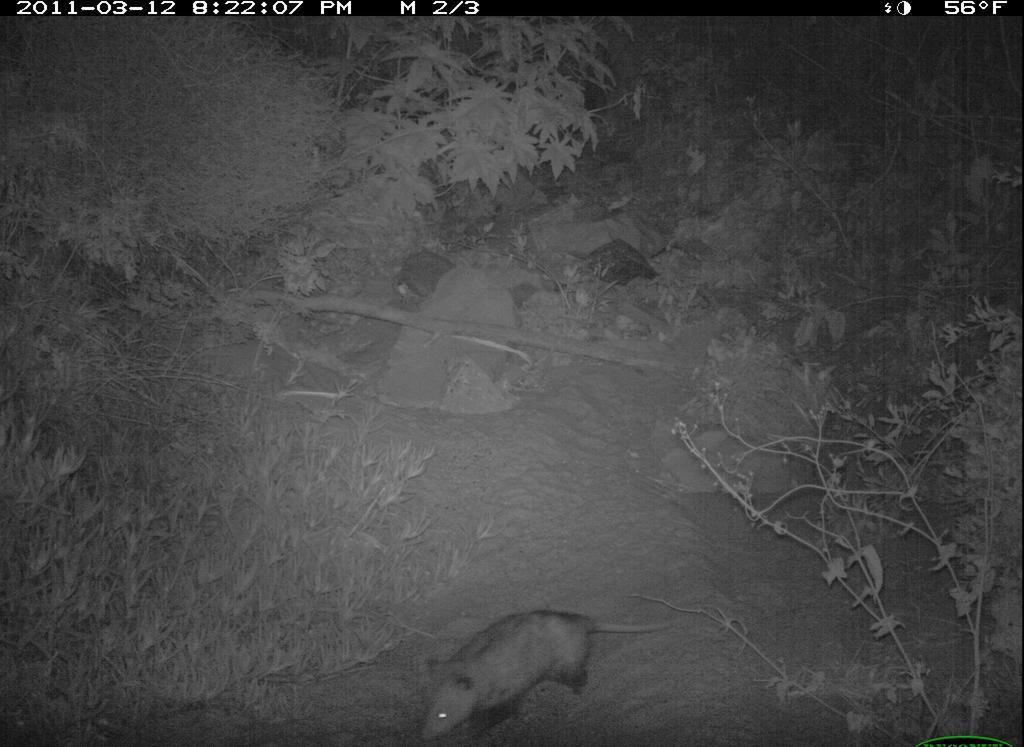opossum: (410, 605, 687, 745)
